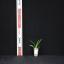leaf: (29, 40, 36, 48), (36, 39, 42, 48), (36, 40, 39, 48), (29, 45, 35, 48), (37, 46, 40, 48)
